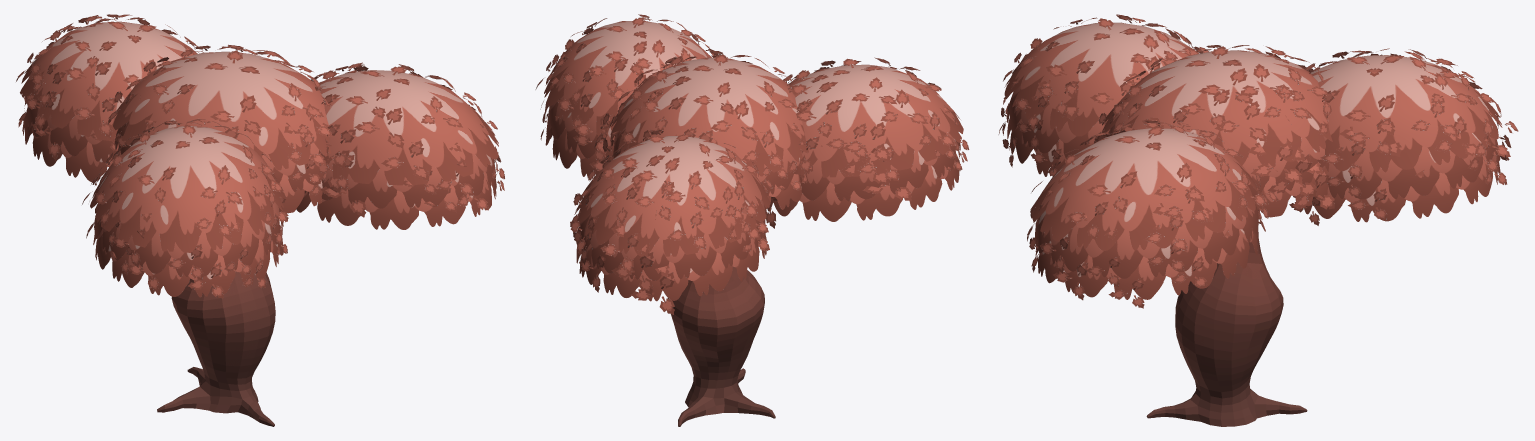
Rendered from FatThreeCrimson.fbx.
3 views of the same model, side by side, from view 1: azimuth 30°, elevation 25°; view 2: azimuth 150°, elevation 25°; view 3: azimuth 270°, elevation 25° (orthographic). The views are drawn at different scales.
Parts seen in each view (by area): view 1: FattenThreeCrimson.001; view 2: FattenThreeCrimson.001; view 3: FattenThreeCrimson.001.
Boxes of the visible parts, <box> form: FattenThreeCrimson.001: <box>16,14,504,426</box>; FattenThreeCrimson.001: <box>535,14,969,426</box>; FattenThreeCrimson.001: <box>998,14,1518,426</box>.
Bounding box in the file's own units: 2185 × 1792 × 2373.
